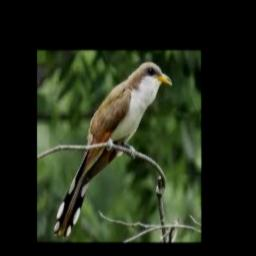Cuckoo: (53, 62, 171, 238)
